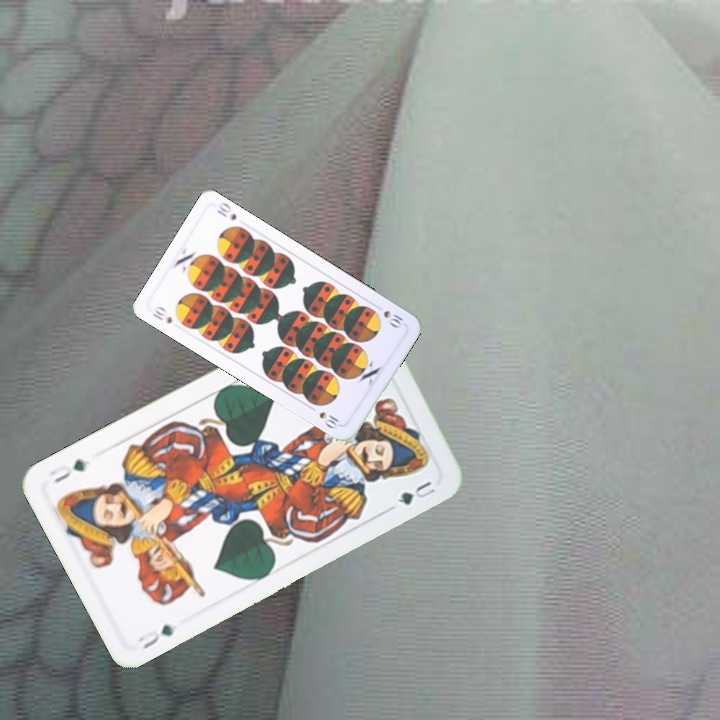GU: (133, 620, 178, 652)
S10: (379, 306, 407, 331), (148, 302, 175, 326)
